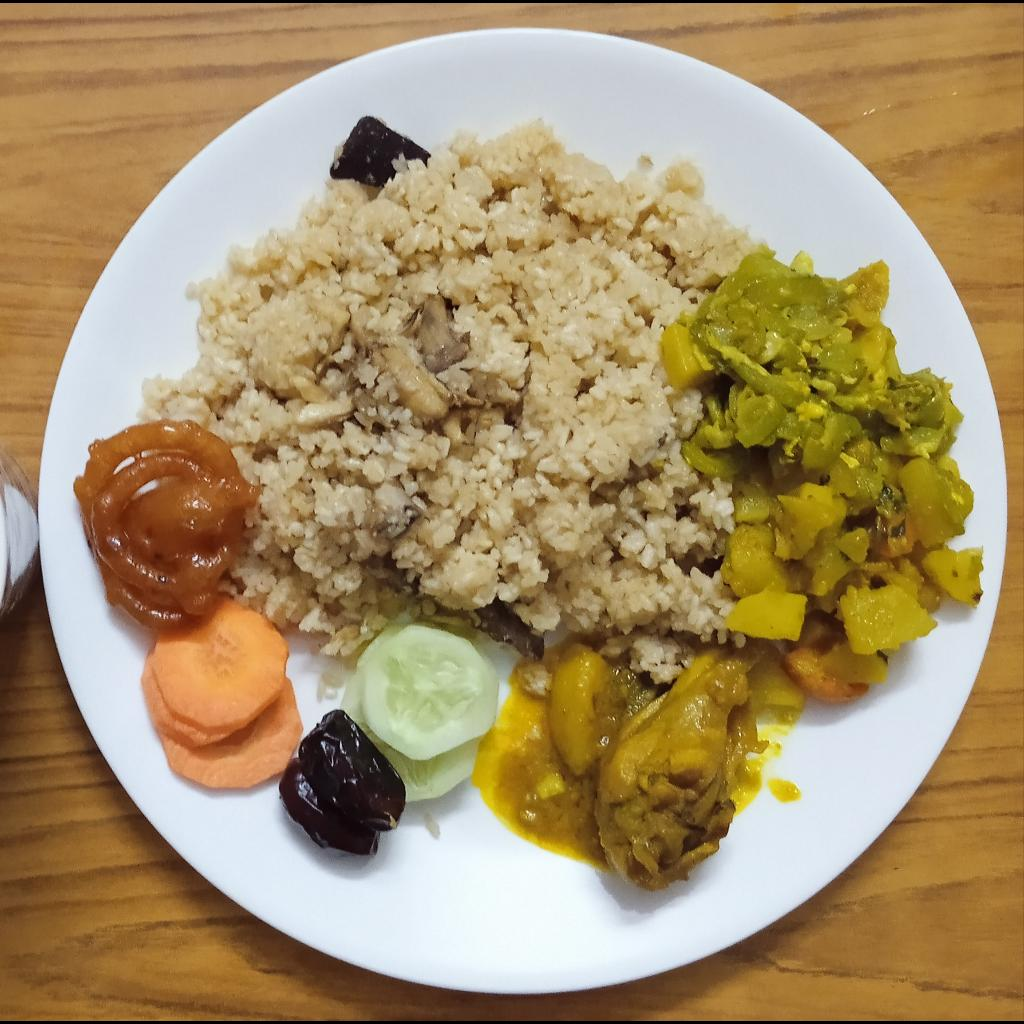biriyani: (137, 115, 766, 673)
carrot: (139, 598, 305, 790)
chicken: (551, 633, 779, 897)
cucumber: (340, 622, 500, 802)
dates: (278, 709, 407, 857)
jilapi: (74, 421, 257, 636)
vegetable: (663, 251, 982, 703)
